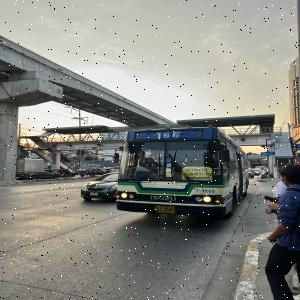BMTA-bus: (115, 127, 249, 221)
Bus Line Number: (156, 130, 182, 140)
Bus Side Number: (195, 188, 216, 194)
Destination Sign: (182, 166, 213, 181)
